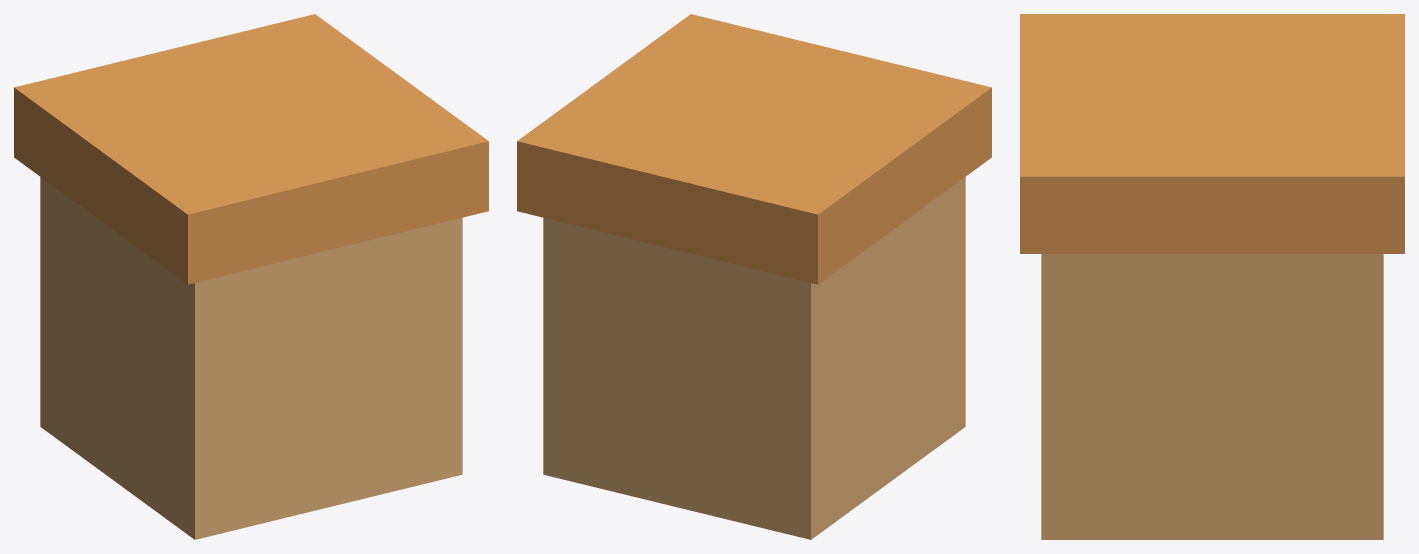
The model's file is Carton.fbx.
The picture shows the model from 3 angles, left to right: view 1: azimuth 30°, elevation 25°; view 2: azimuth 150°, elevation 25°; view 3: azimuth 270°, elevation 25°; orthographic projection. The views are drawn at different scales.
Parts seen in each view (by area): view 1: Cube, Cube.001; view 2: Cube, Cube.001; view 3: Cube, Cube.001.
Part boxes in pixels (x1,y1,x2,y2): Cube: (40, 177, 462, 539); Cube.001: (14, 14, 488, 284); Cube: (543, 177, 965, 539); Cube.001: (517, 14, 991, 284); Cube: (1041, 254, 1383, 539); Cube.001: (1020, 14, 1404, 253).
Size of the model in its own units: 45 by 48.05 by 45.
